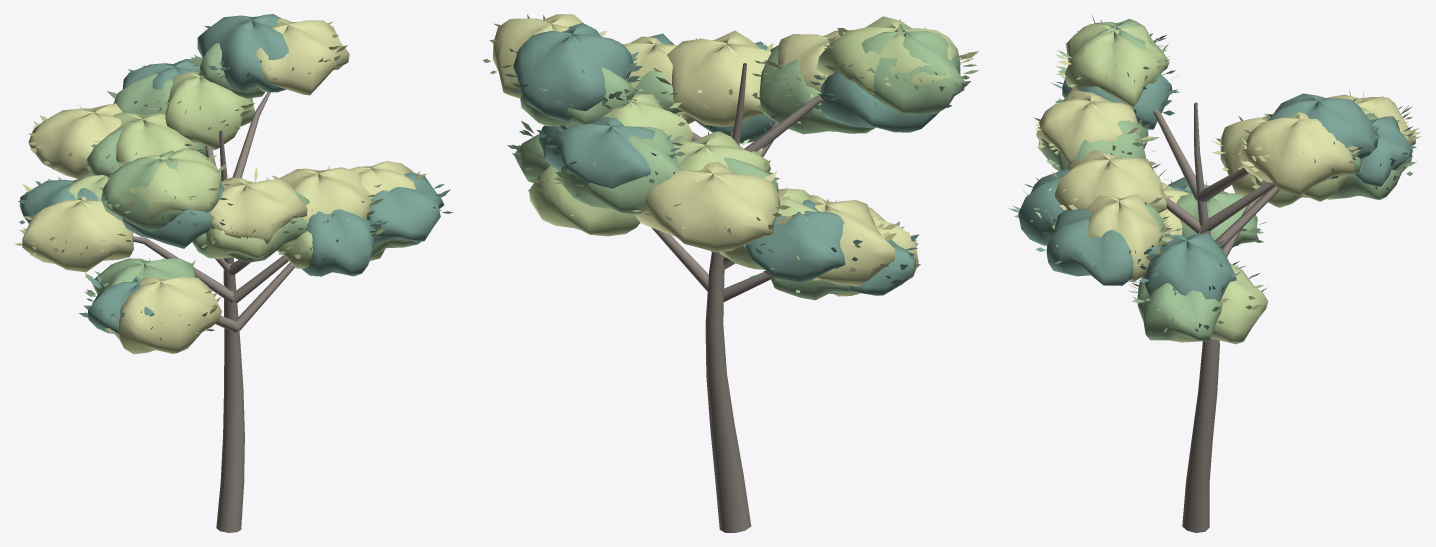
Rendered from maple_canopy.glb.
3 renders of one model, left to right at view 1: azimuth 30°, elevation 25°; view 2: azimuth 150°, elevation 25°; view 3: azimuth 270°, elevation 25°, orthographic. The views are drawn at different scales.
Visible parts, largest first — view 1: maple_canopy; view 2: maple_canopy; view 3: maple_canopy.
Part boxes in pixels (x1,y1,x2,y2): maple_canopy: (14, 14, 453, 532); maple_canopy: (482, 14, 979, 532); maple_canopy: (1008, 15, 1421, 532).
Bounding box in the file's own units: 7.12 × 8.18 × 6.54.
